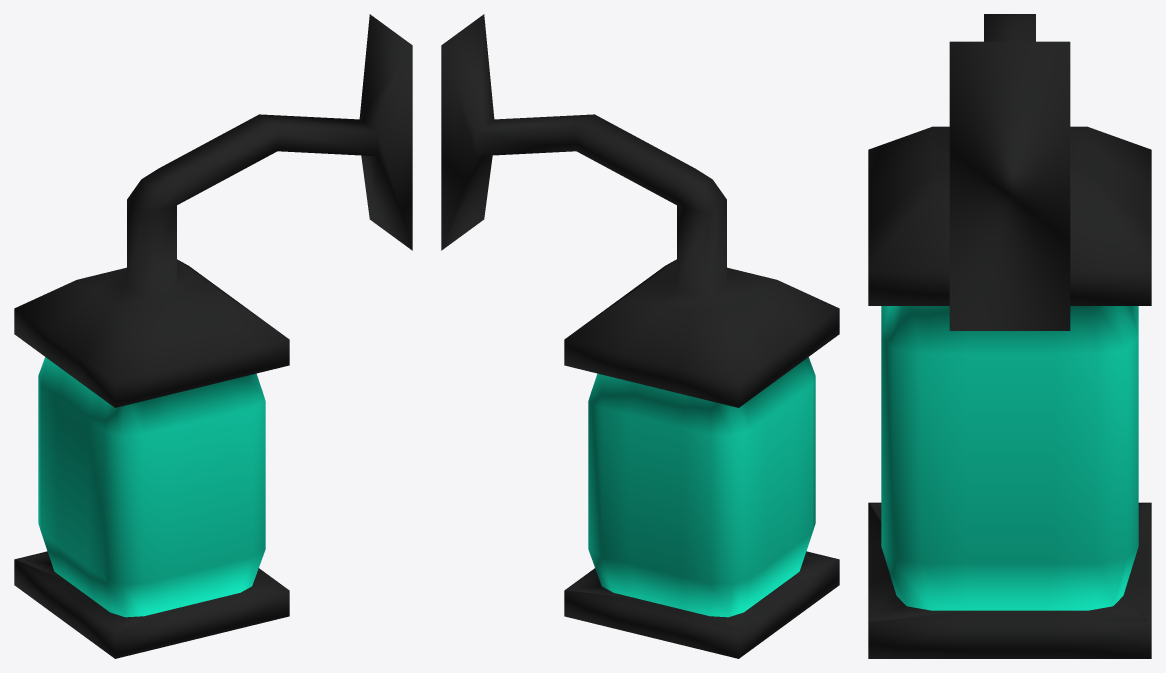
Rendered from LampWall.fbx.
3 renders of one model, left to right at view 1: azimuth 30°, elevation 25°; view 2: azimuth 150°, elevation 25°; view 3: azimuth 270°, elevation 25°, orthographic. The views are drawn at different scales.
Visible parts, largest first — view 1: LampWall; view 2: LampWall; view 3: LampWall.
Part boxes in pixels (x1,y1,x2,y2): LampWall: [14, 14, 412, 658]; LampWall: [441, 14, 839, 658]; LampWall: [868, 14, 1151, 658].
Size of the model in its own units: 25.99 by 40.49 by 13.9.
